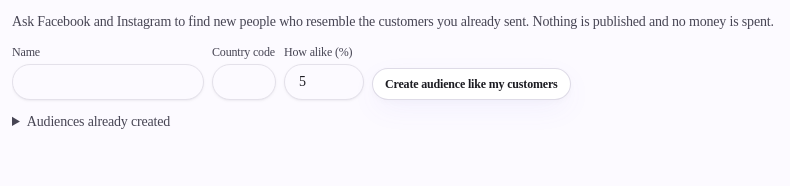
MetaLookalikeAudienceControls › shows the empty-list message when no Lookalike Audiences have been created yet
Click the heading "Audiences already created" at (98, 122), box [27,114,170,129]
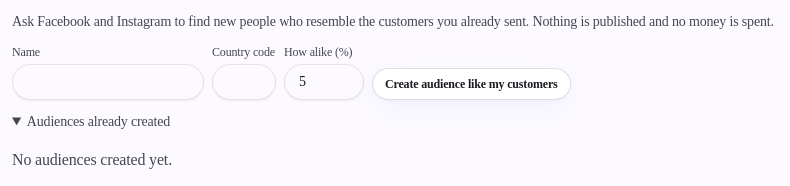
Check: the text "No audiences created yet." is shown, box [12,151,172,168]
